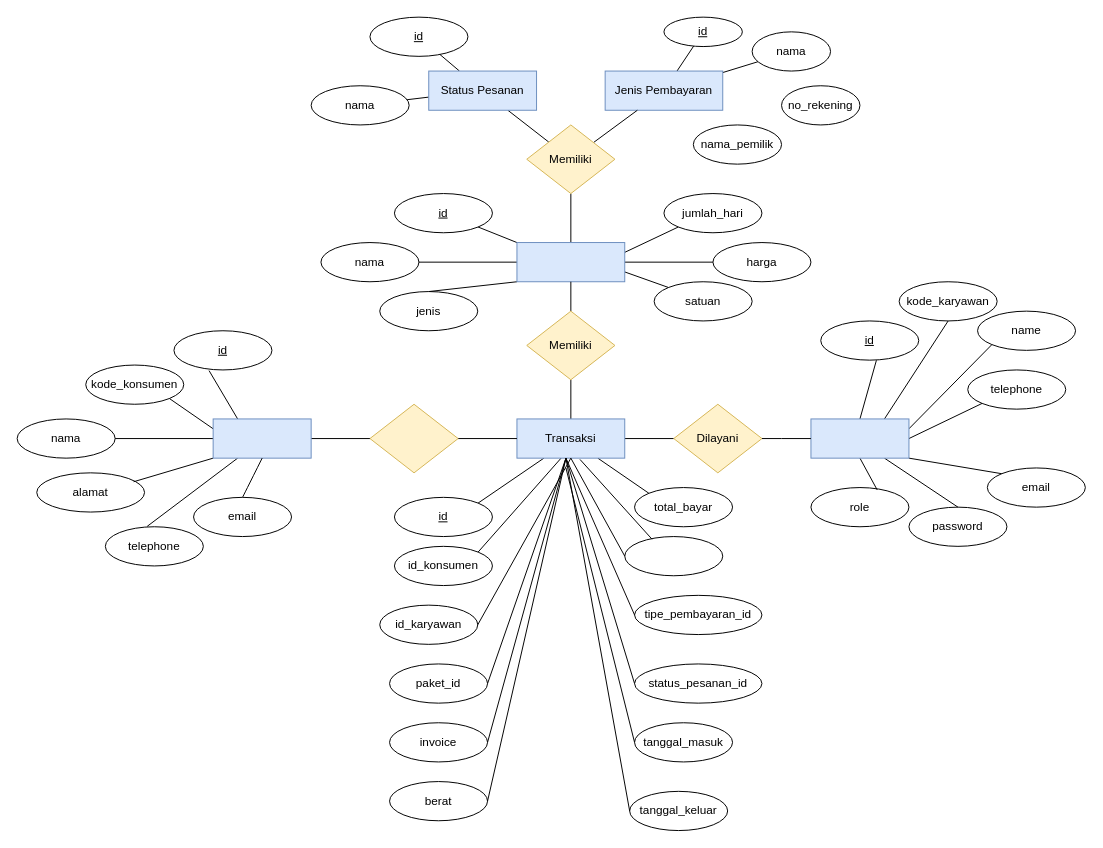
The diagram is 1103 pixels wide and 848 high, and some of its shapes have lost their labels. The shapes that lost their labels are listed below. From the top down, each one's centre as x and y in pixels, then its label:
the point at 570,262: Paket
the point at 261,438: Konsumen
the point at 413,438: Melakukan
the point at 859,438: Karyawan
the point at 673,556: diskon
